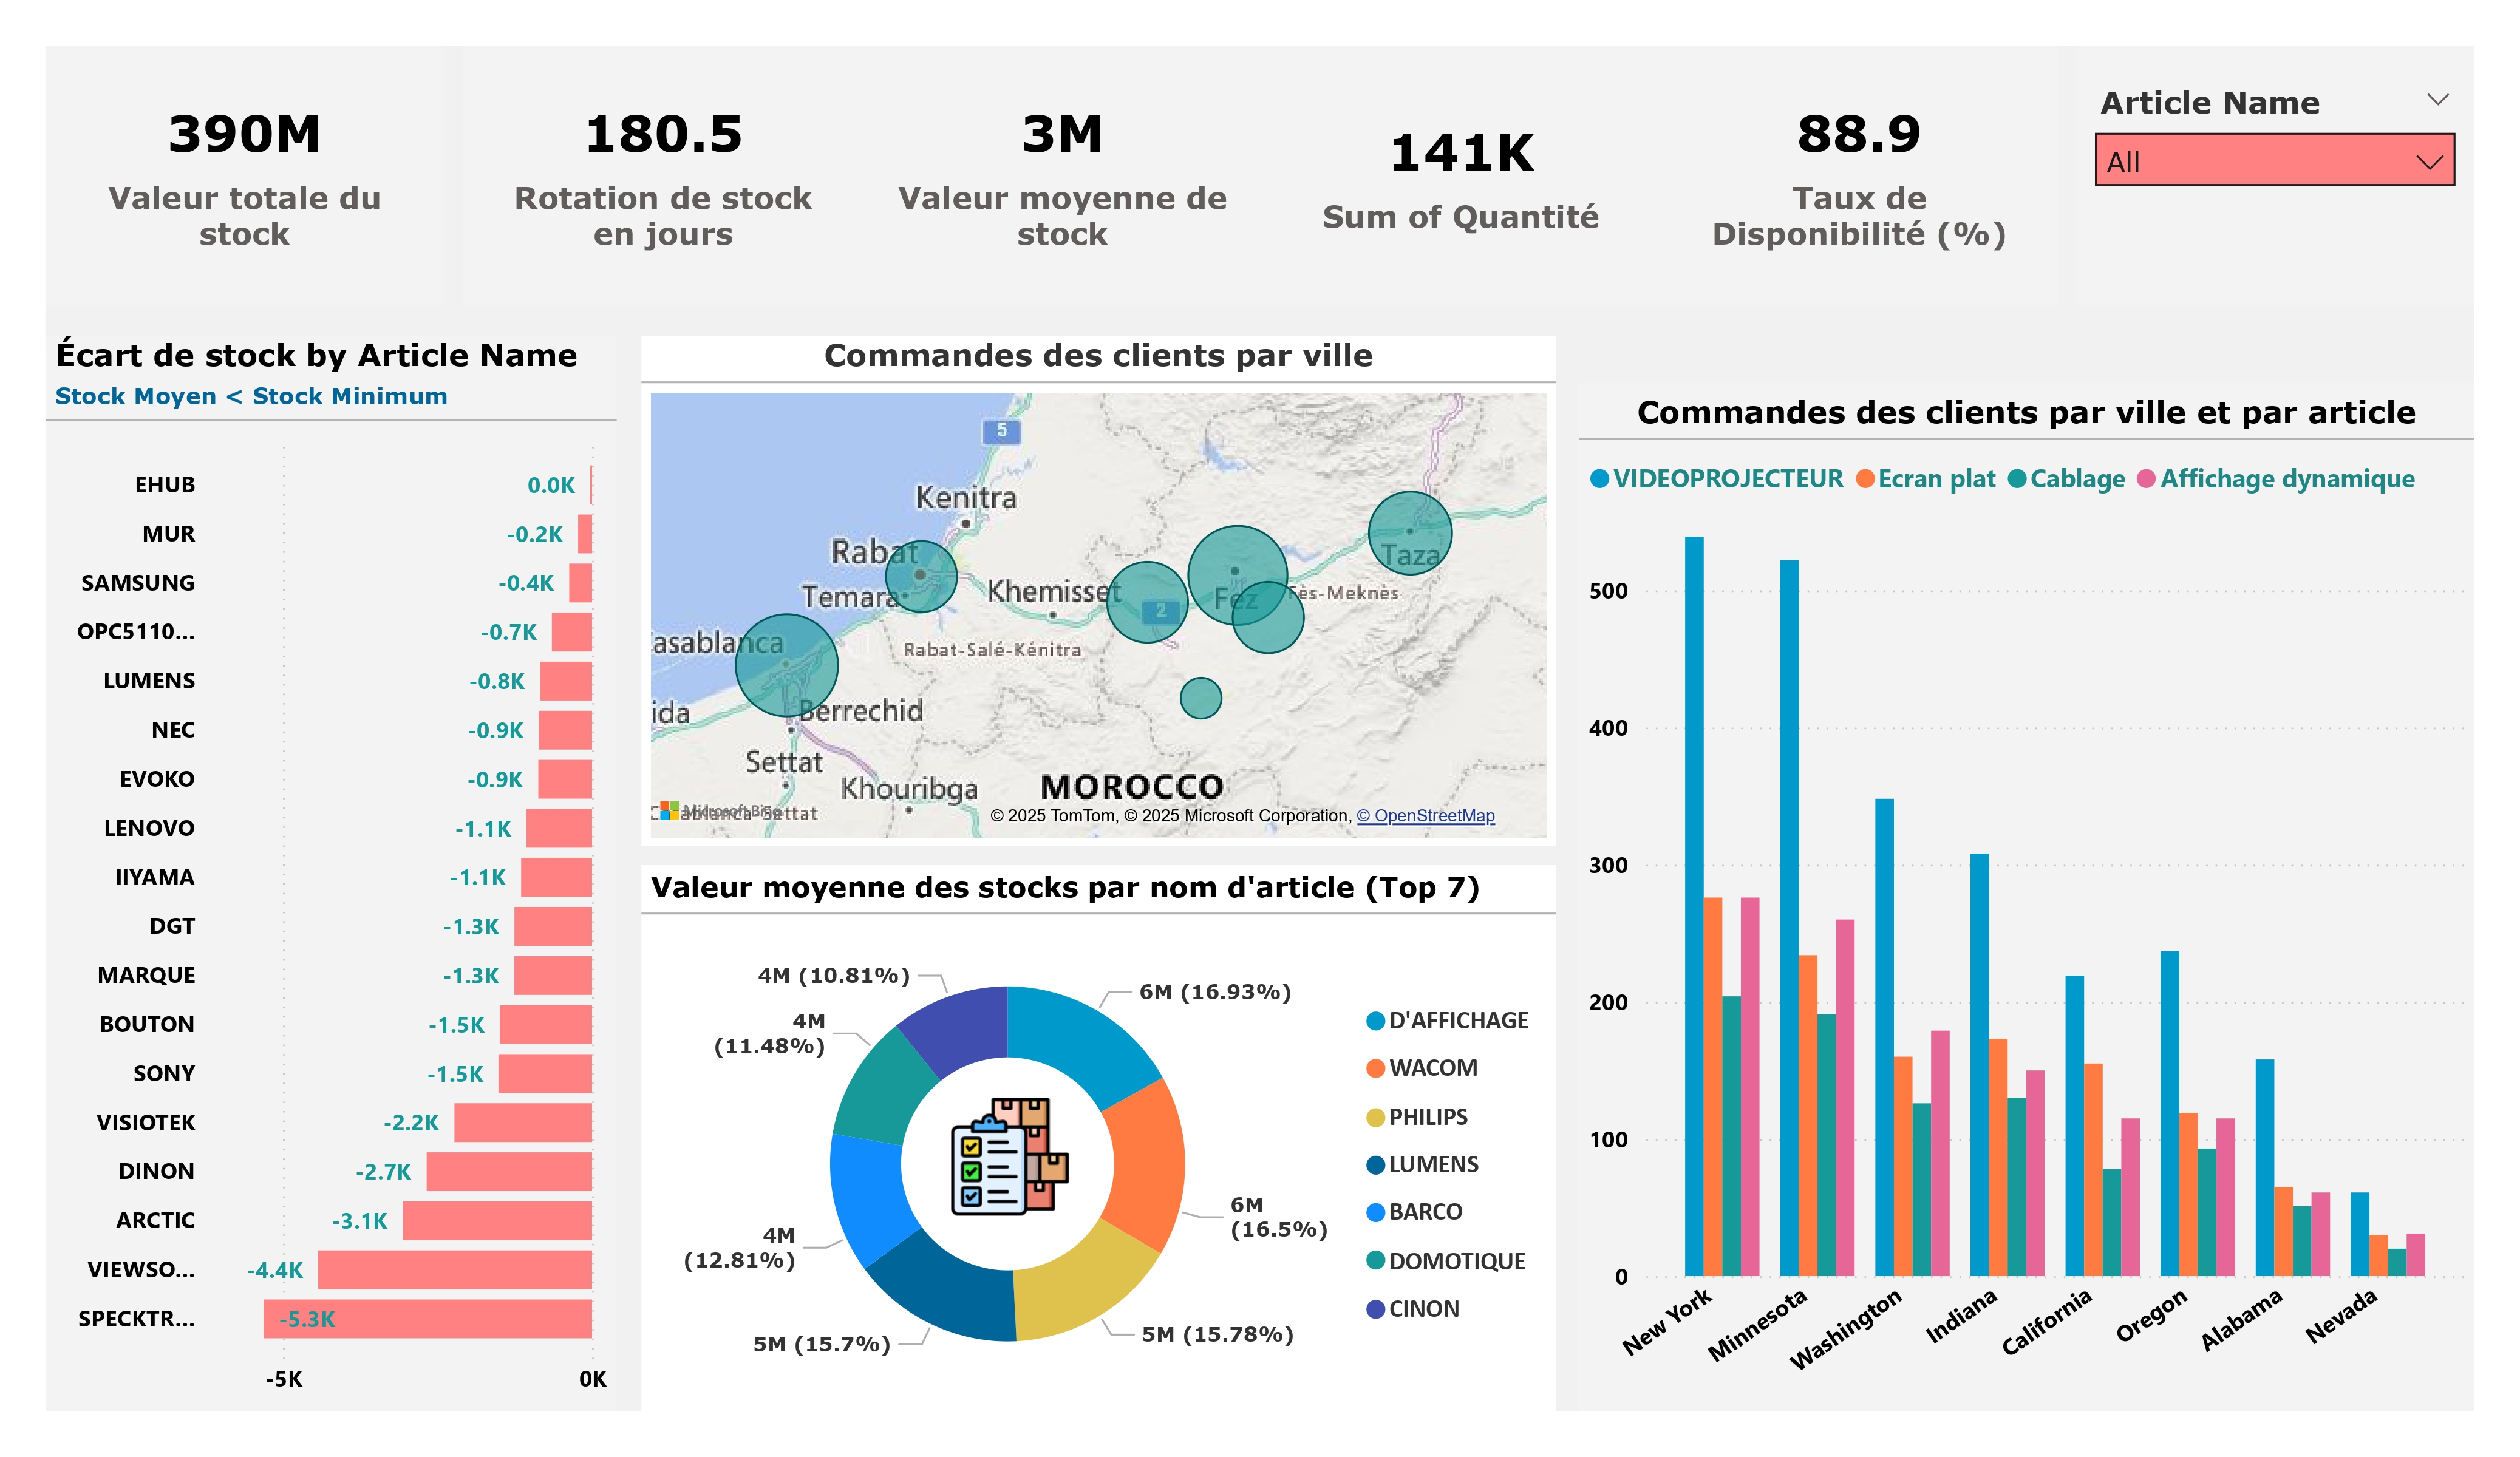

What the dashboard file says about the page in this screenshot:
{"tool":"powerbi","page":{"name":"Inventaire","canvas":[1280,720],"ordinal":1},"visuals":[{"type":"cardVisual","fields":{"Data":["Inventaire.Valeur moyenne de stock"]},"box":[430.5,0,210.1,136.7],"z":0},{"type":"cardVisual","fields":{"Data":["Avg(Inventaire.Rotation de stock en jours)"]},"box":[220.4,0,210.1,136.7],"z":1000},{"type":"cardVisual","fields":{"Data":["Inventaire.Valeur totale du stock"]},"box":[0,0,210.1,136.7],"z":2000},{"type":"cardVisual","fields":{"Data":["Sum(Inventaire.Quantité)"]},"box":[640.7,0,210.1,136.7],"z":3000},{"type":"cardVisual","fields":{"Data":["Inventaire.Taux de Disponibilité (%)"]},"box":[850.8,0,210.1,136.7],"z":4000},{"type":"slicer","fields":{"Values":["Inventaire.Article Name"]},"box":[1069.7,0,210.1,136.7],"z":5000},{"type":"clusteredBarChart","title":"Écart de stock by Article Name","fields":{"Category":["Inventaire.Article Name"],"Y":["Sum(Inventaire.Écart de stock)"]},"box":[0,152.8,301.2,567.2],"z":6000},{"type":"clusteredColumnChart","title":"Commandes des clients par ville et par article","fields":{"Category":["Ventes au USA.Ville"],"Series":["Ventes au USA.Article"],"Y":["CountNonNull(Ventes au USA.Client)"]},"box":[808.2,177.8,471.7,542.2],"z":7000},{"type":"donutChart","title":"Valeur moyenne des stocks par nom d''article (Top 7)","fields":{"Category":["Inventaire.Article Name"],"Y":["Inventaire.Valeur moyenne de stock"]},"box":[314.4,432,482,288],"z":8000},{"type":"map","title":"Commandes des clients par ville","fields":{"Category":["Ventes au Maroc.Ville"],"Size":["CountNonNull(Ventes au Maroc.Client ID)"]},"box":[314.4,152.8,482,268.9],"z":9000},{"type":"image","box":[472,547,73.5,76.4],"z":10000}]}

Visuals, with their boxes on the page's 1280x720 design canvas (x1, y1, x2, y2). These are canvas units, not pixel positions in the 2520x1457 screenshot, which may show the page scaled, cropped or inside an application window:
cardVisual - Inventaire.Valeur moyenne de stock: bbox=(430, 0, 641, 137)
cardVisual - Avg(Inventaire.Rotation de stock en jours): bbox=(220, 0, 430, 137)
cardVisual - Inventaire.Valeur totale du stock: bbox=(0, 0, 210, 137)
cardVisual - Sum(Inventaire.Quantité): bbox=(641, 0, 851, 137)
cardVisual - Inventaire.Taux de Disponibilité (%): bbox=(851, 0, 1061, 137)
slicer - Inventaire.Article Name: bbox=(1070, 0, 1280, 137)
"Écart de stock by Article Name" clusteredBarChart: bbox=(0, 153, 301, 720)
"Commandes des clients par ville et par article" clusteredColumnChart: bbox=(808, 178, 1280, 720)
"Valeur moyenne des stocks par nom d''article (Top 7)" donutChart: bbox=(314, 432, 796, 720)
"Commandes des clients par ville" map: bbox=(314, 153, 796, 422)
image: bbox=(472, 547, 546, 623)
